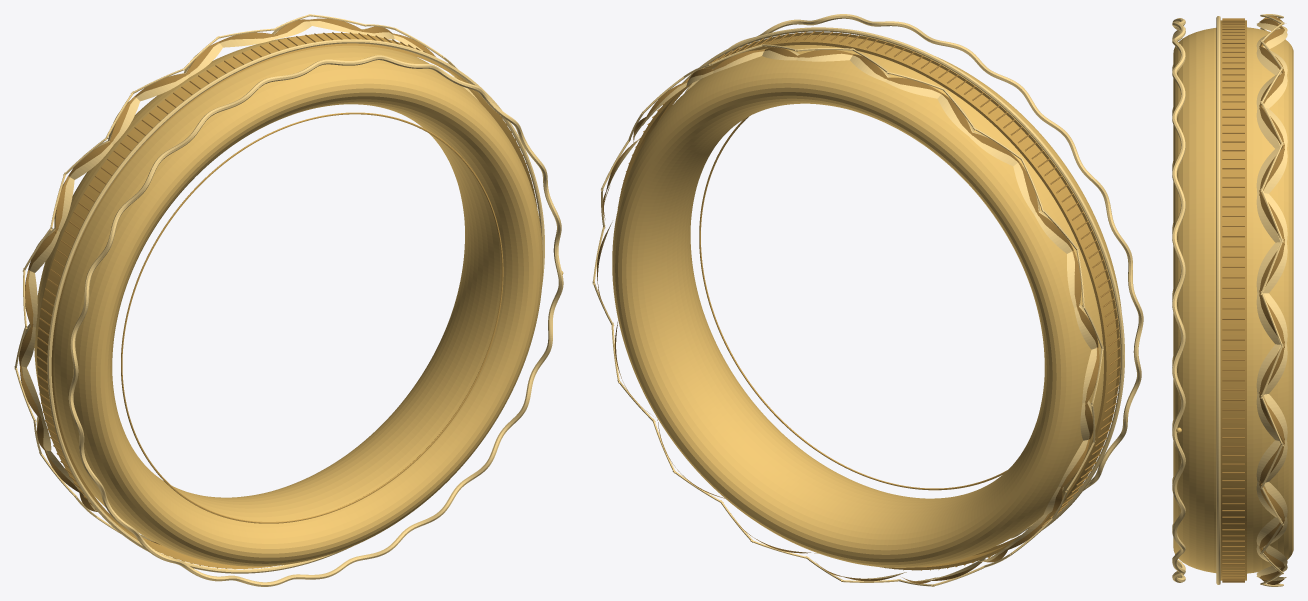
Rendered from gold_ring____.glb.
The picture shows the model from 3 angles, left to right: view 1: azimuth 30°, elevation 25°; view 2: azimuth 150°, elevation 25°; view 3: azimuth 270°, elevation 25°; orthographic projection.
Parts seen in each view (by area): view 1: Continuous hollow gold band, Central band, Braided rim cord, Polished separator rail, Inner engraved line; view 2: Continuous hollow gold band, Central band, Braided rim cord, Polished separator rail, Inner engraved line; view 3: Continuous hollow gold band, Central band, Braided rim cord, Polished separator rail, Raised leaf 2, Raised leaf 3, Raised leaf 1, Raised leaf 4, Raised leaf 0, Raised leaf 5, Raised leaf 33, Raised leaf 6 (+18 smaller).
Boxes of the visible parts, left/top/right/bottom form: Continuous hollow gold band: left=34, top=36, right=542, bottom=566; Central band: left=37, top=33, right=537, bottom=568; Braided rim cord: left=68, top=55, right=563, bottom=586; Polished separator rail: left=47, top=39, right=544, bottom=573; Inner engraved line: left=121, top=112, right=503, bottom=523; Continuous hollow gold band: left=612, top=35, right=1121, bottom=567; Central band: left=618, top=32, right=1120, bottom=570; Braided rim cord: left=685, top=14, right=1143, bottom=538; Polished separator rail: left=682, top=27, right=1124, bottom=530; Inner engraved line: left=699, top=116, right=1007, bottom=490; Continuous hollow gold band: left=1173, top=27, right=1293, bottom=573; Central band: left=1220, top=20, right=1246, bottom=580; Braided rim cord: left=1172, top=18, right=1185, bottom=582; Polished separator rail: left=1216, top=16, right=1220, bottom=584; Raised leaf 2: left=1256, top=293, right=1287, bottom=344; Raised leaf 3: left=1256, top=242, right=1287, bottom=293; Raised leaf 1: left=1256, top=344, right=1287, bottom=394; Raised leaf 4: left=1256, top=193, right=1287, bottom=242; Raised leaf 0: left=1256, top=394, right=1287, bottom=440; Raised leaf 5: left=1256, top=148, right=1287, bottom=193; Raised leaf 33: left=1256, top=440, right=1287, bottom=483; Raised leaf 6: left=1256, top=107, right=1287, bottom=148.
Size of the model in its own units: 2.33 by 2.33 by 0.4947.
